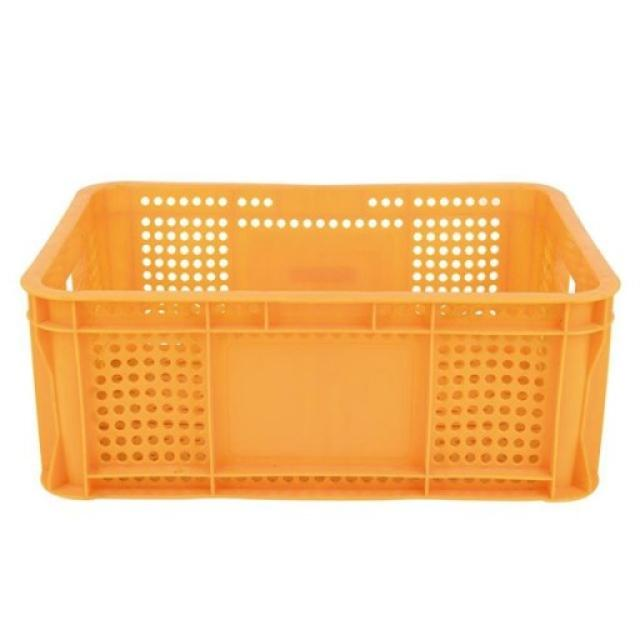basket: (22, 184, 620, 501)
